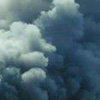smoke: (2, 3, 98, 99)
